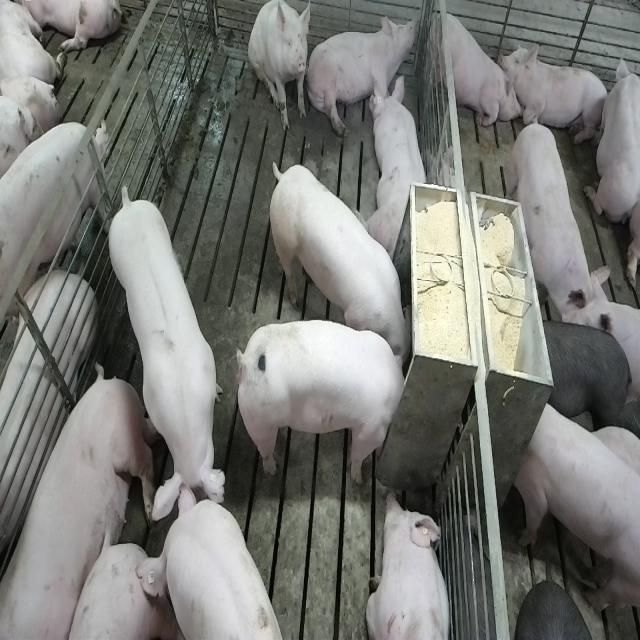Feeding: (264, 160, 412, 368), (242, 318, 415, 485)
Lateral_lying: (5, 366, 159, 640), (307, 14, 419, 141)
Sitting: (422, 5, 513, 138), (248, 2, 311, 133)
Standing: (105, 189, 225, 536), (514, 394, 638, 618), (0, 271, 93, 563), (0, 118, 108, 346), (512, 108, 612, 330), (152, 492, 284, 640), (542, 316, 636, 442)
Sternal_lying: (366, 489, 453, 640), (367, 72, 431, 259), (507, 43, 609, 147), (584, 48, 638, 226)
